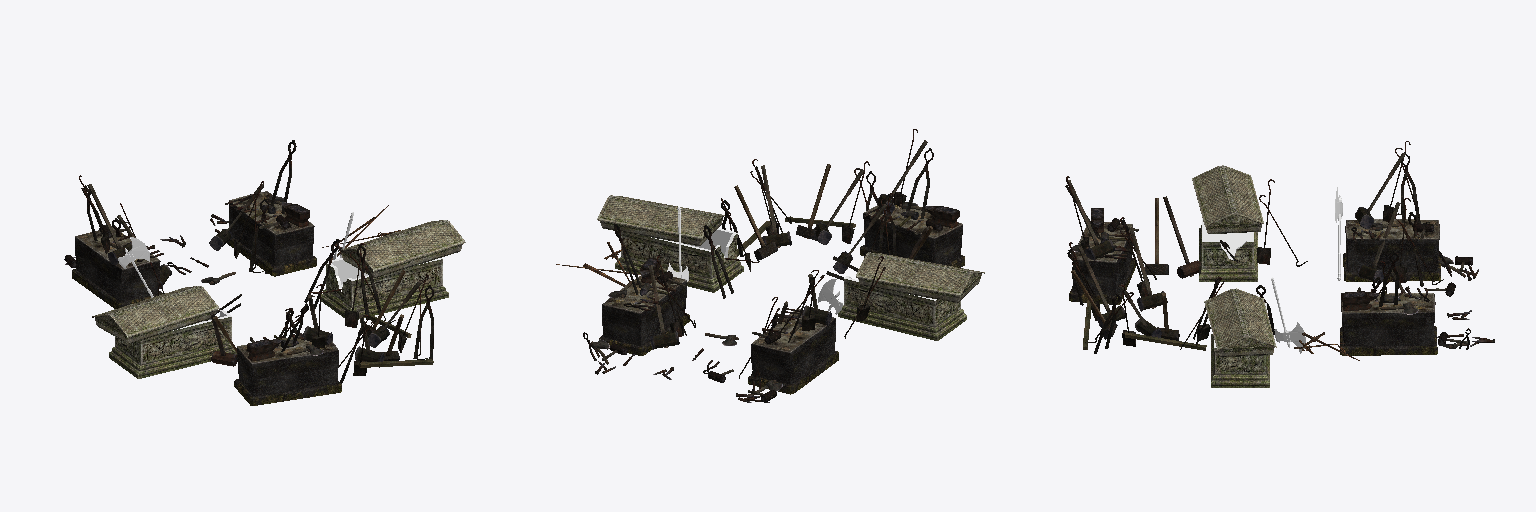
3 renders of one model, left to right at view 1: azimuth 30°, elevation 25°; view 2: azimuth 150°, elevation 25°; view 3: azimuth 270°, elevation 25°, orthographic.
Visible parts, largest first — view 1: mesh1, mesh5, mesh2, mesh3, mesh0; view 2: mesh1, mesh2, mesh5, mesh3, mesh0; view 3: mesh2, mesh1, mesh5, mesh3, mesh0.
Boxes of the visible parts, box(x1,y1,x2,y2) form: mesh1: box(92, 220, 465, 378); mesh5: box(72, 191, 341, 405); mesh2: box(64, 140, 433, 383); mesh3: box(118, 212, 353, 297); mesh0: box(173, 258, 442, 330); mesh1: box(597, 195, 984, 340); mesh2: box(583, 129, 959, 402); mesh5: box(599, 199, 964, 394); mesh3: box(667, 207, 842, 314); mesh0: box(651, 228, 936, 300); mesh2: box(1065, 141, 1494, 353); mesh1: box(1192, 165, 1276, 387); mesh5: box(1069, 219, 1440, 355); mesh3: box(1271, 187, 1342, 353); mesh0: box(1202, 218, 1266, 347).
Size of the model in its own units: 6.35 by 2.06 by 6.62.
6 materials, 4 textured.